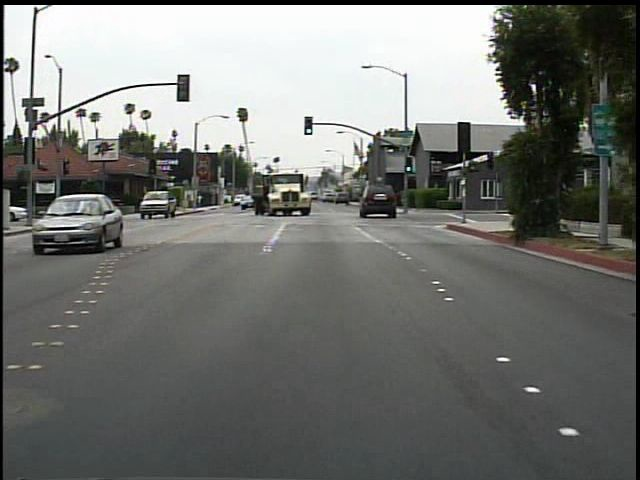person: (197, 191, 206, 209)
